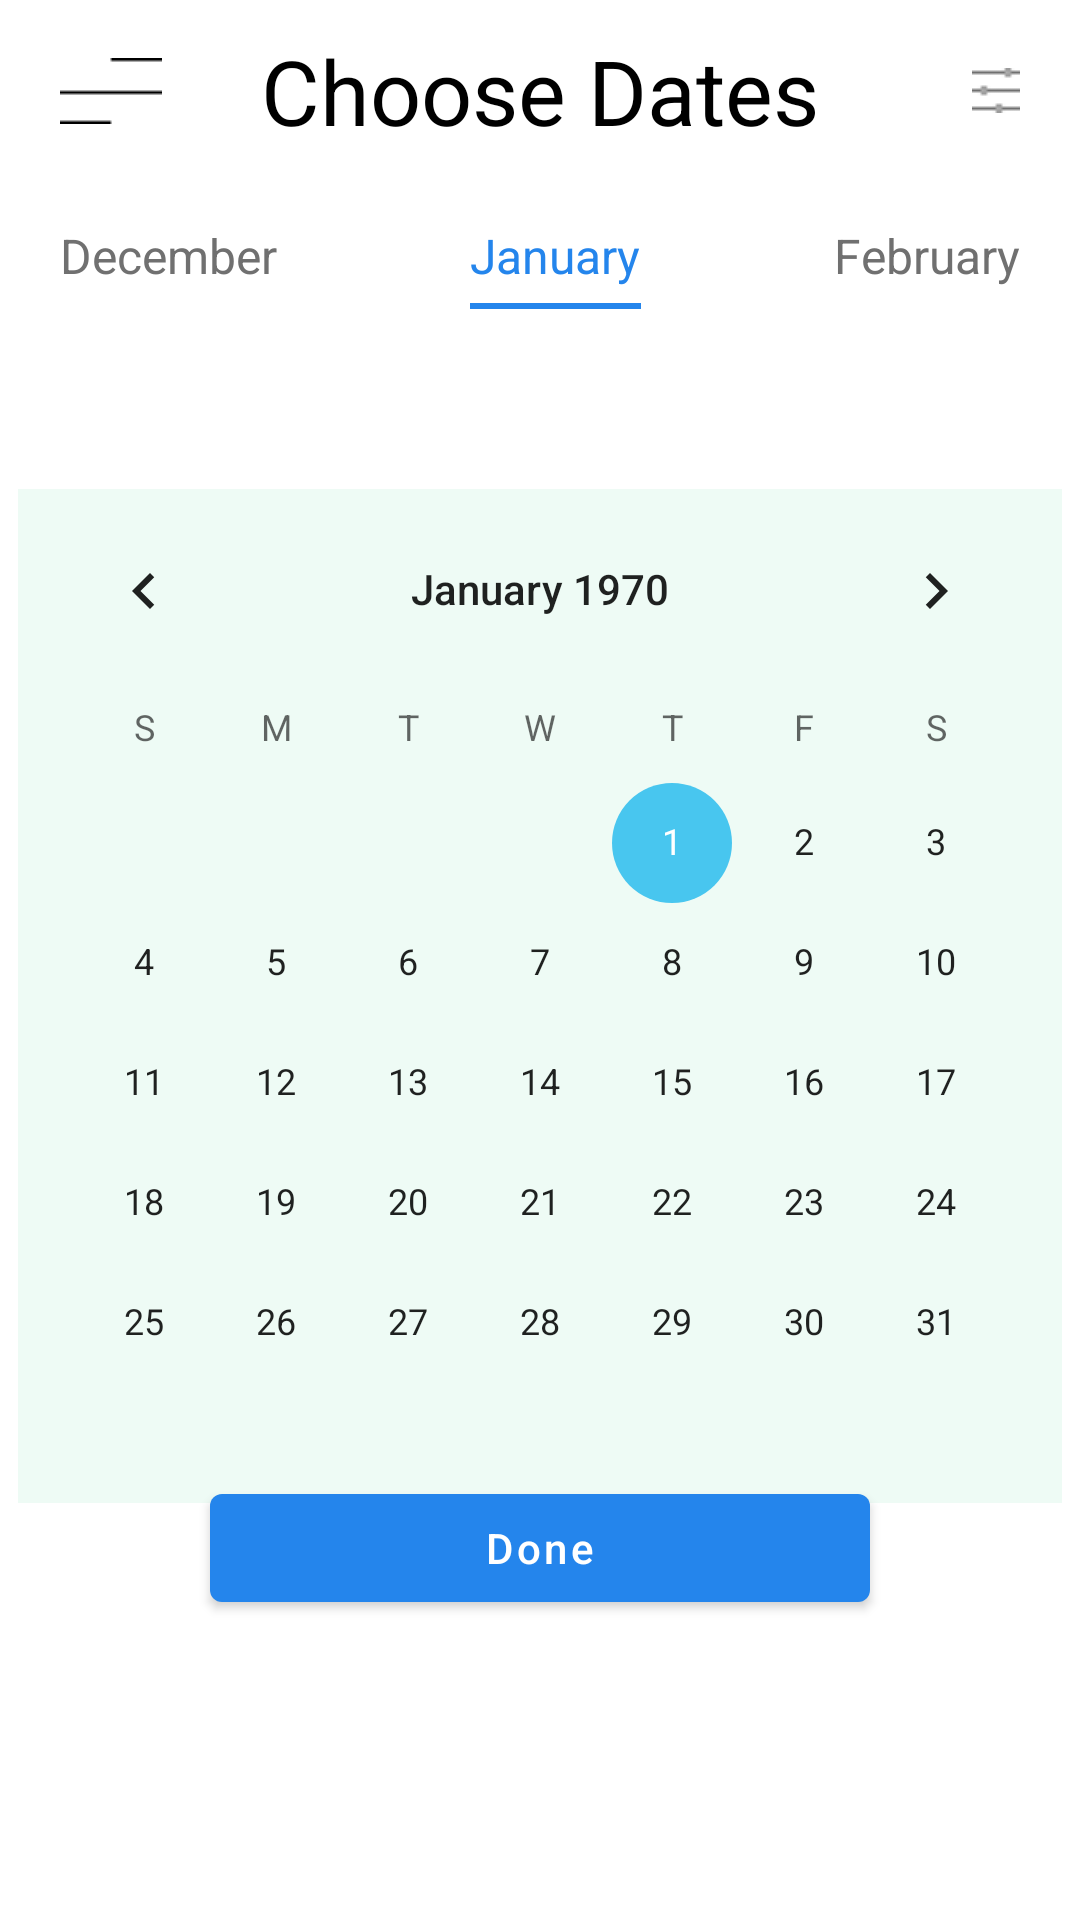

Icons on this 1080×1920 Android screen, each with the point to tap as [x,y]:
lines menu: [111,91]
settings: [996,90]
